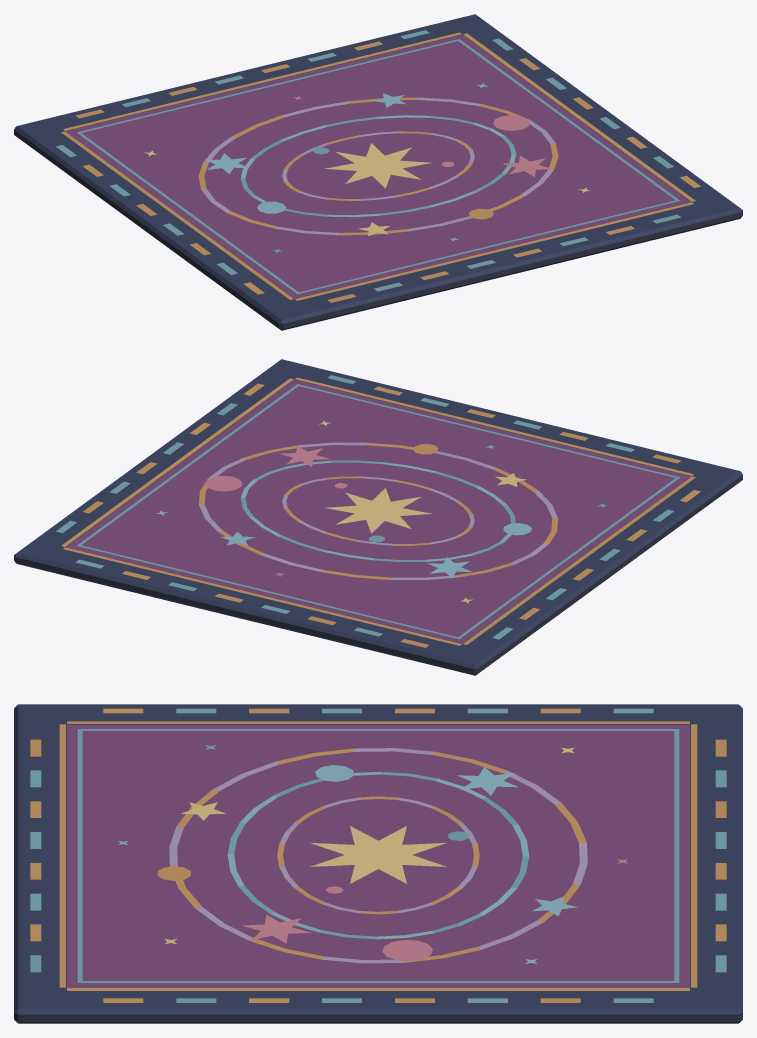
Rendered from 0-20261016-1900-ev029-r05-arcade-arcadecarpet.fbx.
The picture shows the model from 3 angles, top to bottom: view 1: azimuth 30°, elevation 25°; view 2: azimuth 150°, elevation 25°; view 3: azimuth 270°, elevation 25°; orthographic projection. The views are drawn at different scales.
Visible parts, largest first — view 1: SW_Arcade_ArcadeCarpet; view 2: SW_Arcade_ArcadeCarpet; view 3: SW_Arcade_ArcadeCarpet.
Boxes of the visible parts, x1,y1,x2,y2 form: SW_Arcade_ArcadeCarpet: [14, 14, 742, 330]; SW_Arcade_ArcadeCarpet: [14, 359, 742, 675]; SW_Arcade_ArcadeCarpet: [14, 704, 742, 1023].
Bounding box in the file's own units: 200 × 5.1 × 200.
